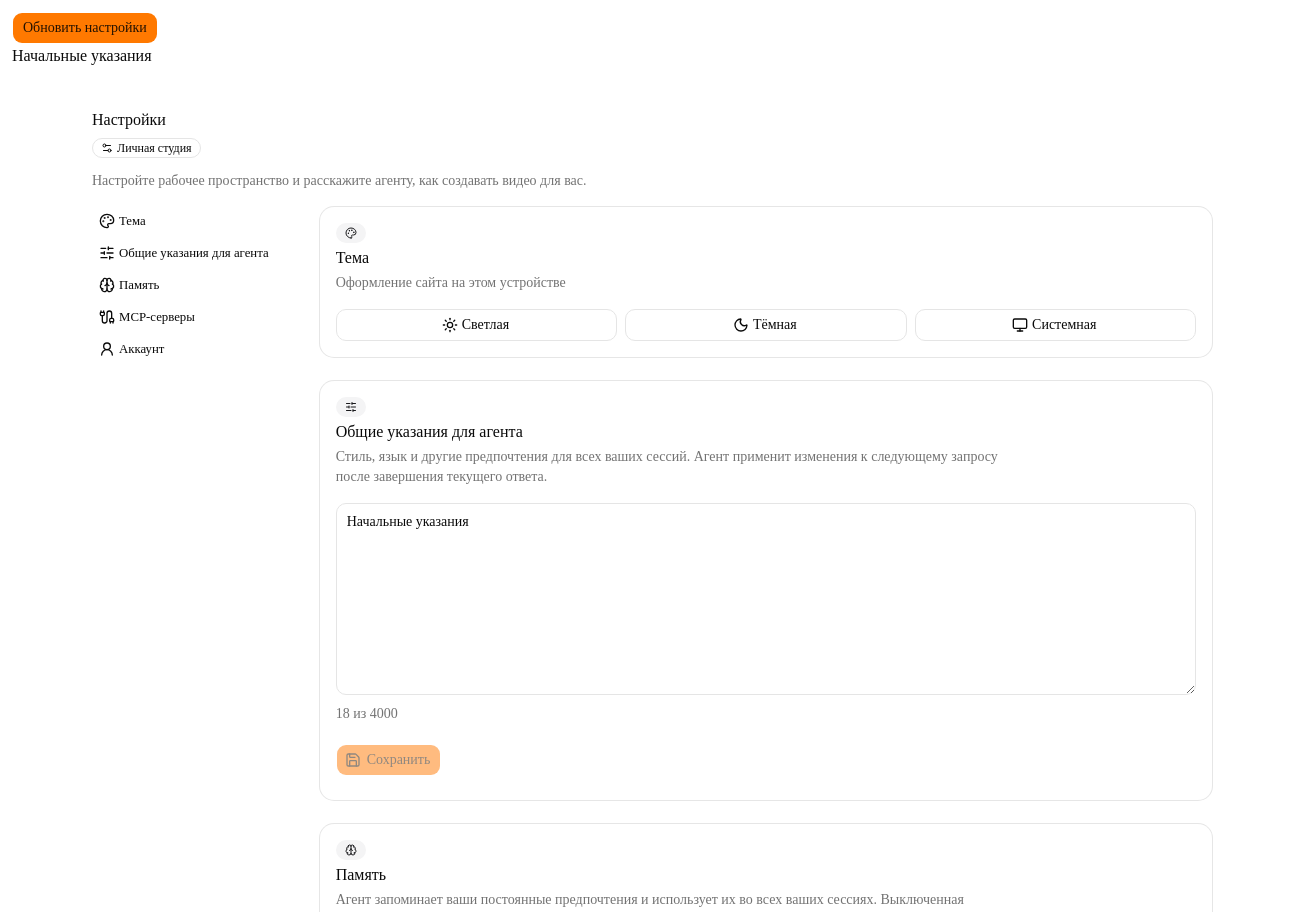
Test case: server refresh синхронизирует pristine поле с новым baseline
Expected: the text box named "Общие указания" holds "Начальные указания", [336, 503, 1196, 695]
Click the button "Обновить настройки" at (85, 28), box [12, 12, 158, 44]
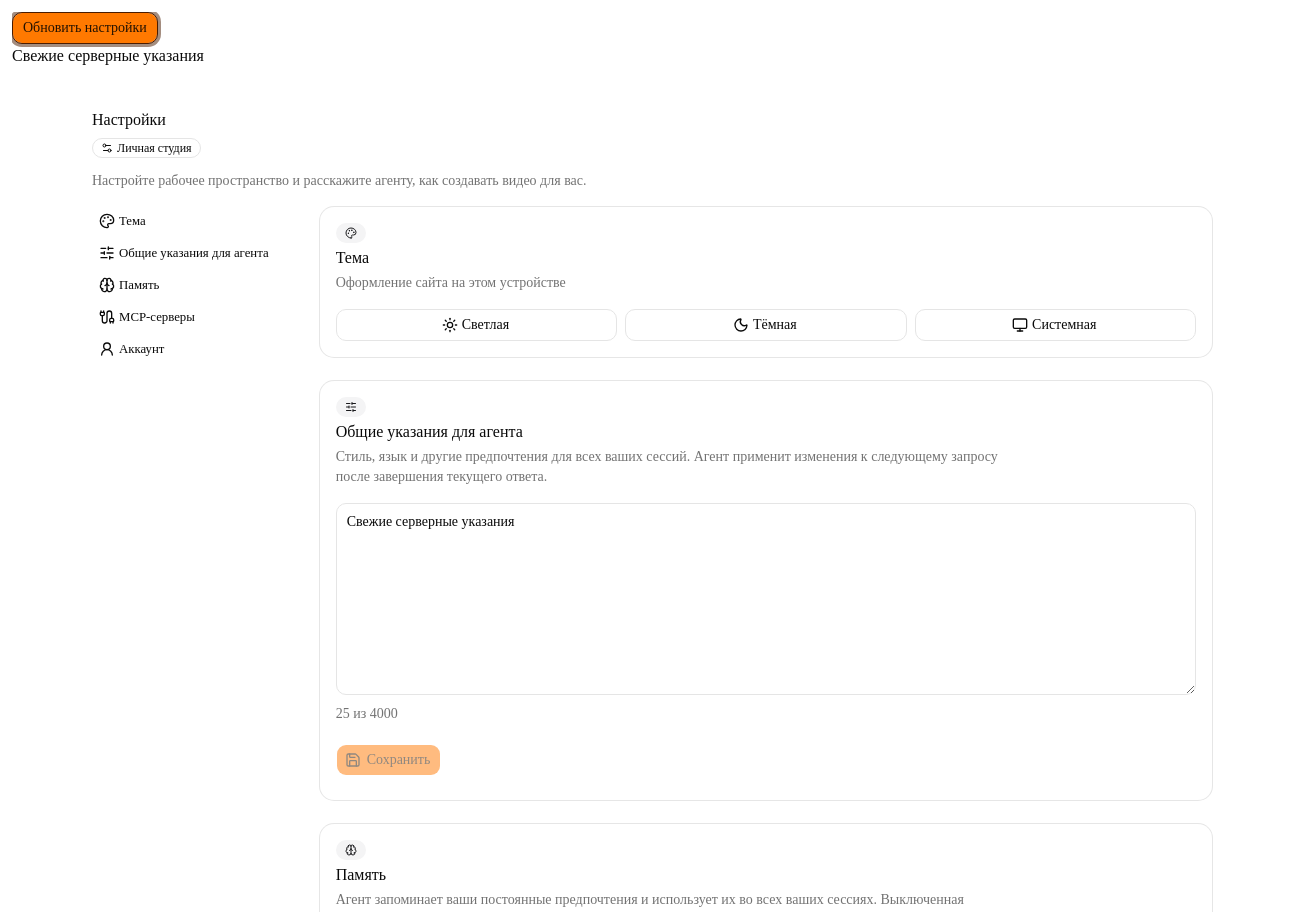
Expected: the button "Сохранить" is disabled, [336, 744, 441, 776]
Expected: the text box named "Общие указания" holds "Свежие серверные указания", [336, 503, 1196, 695]
